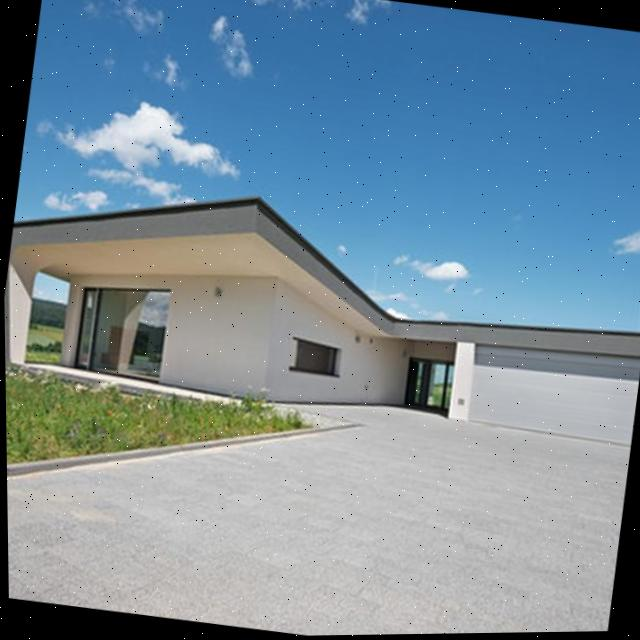building: (2, 156, 640, 458)
